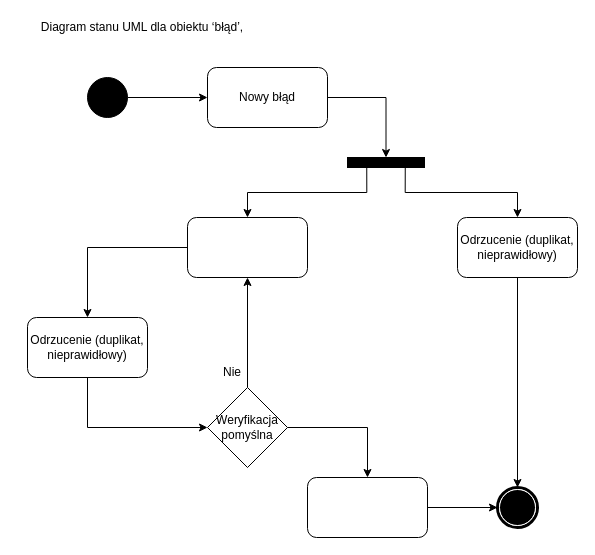
Image size: 595x555. Some labels were removed from this diagram. Here are the shapes that lost their labels. From the top down, the centre of each, then its label:
point (247, 247): Akceptacja i przypisanie błędu
point (367, 507): Błąd zamknięty
